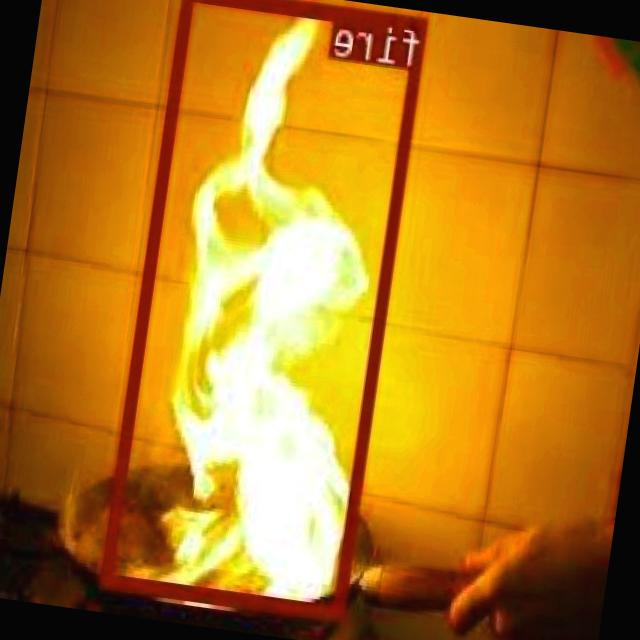fire: (102, 0, 430, 619)
